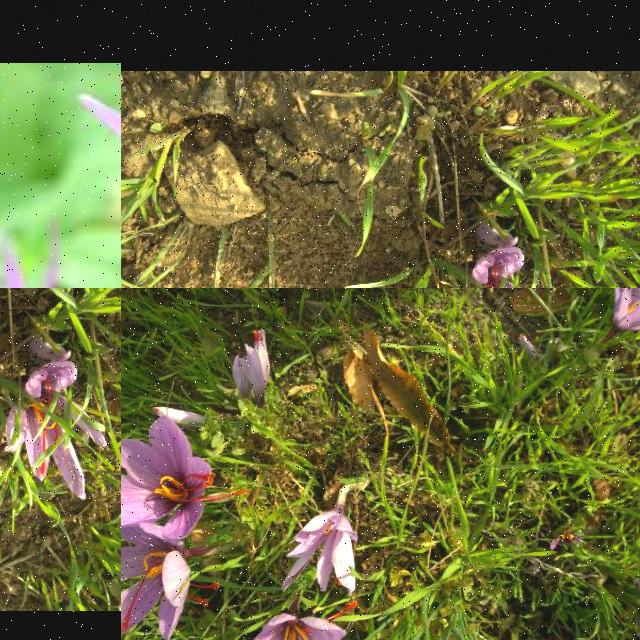flower: (121, 414, 248, 540), (6, 361, 108, 502), (121, 503, 220, 640), (282, 512, 358, 596), (234, 601, 358, 640), (453, 246, 555, 288), (238, 328, 270, 396), (613, 288, 640, 335), (155, 408, 203, 427)
